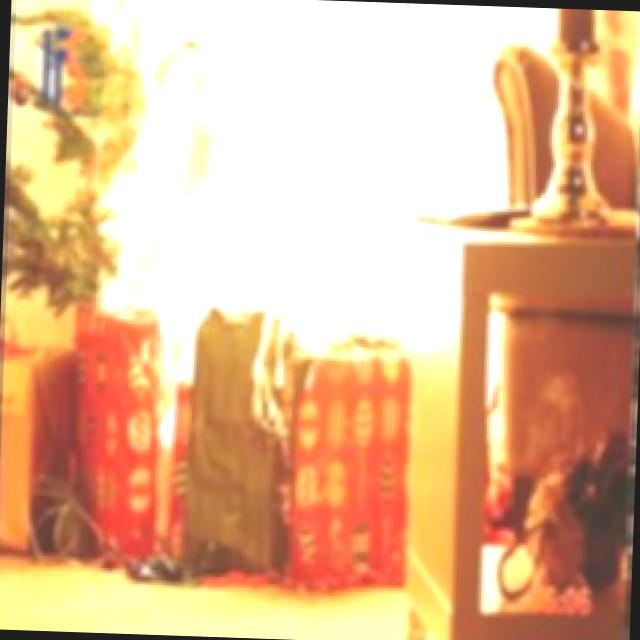fire: (67, 0, 582, 381)
